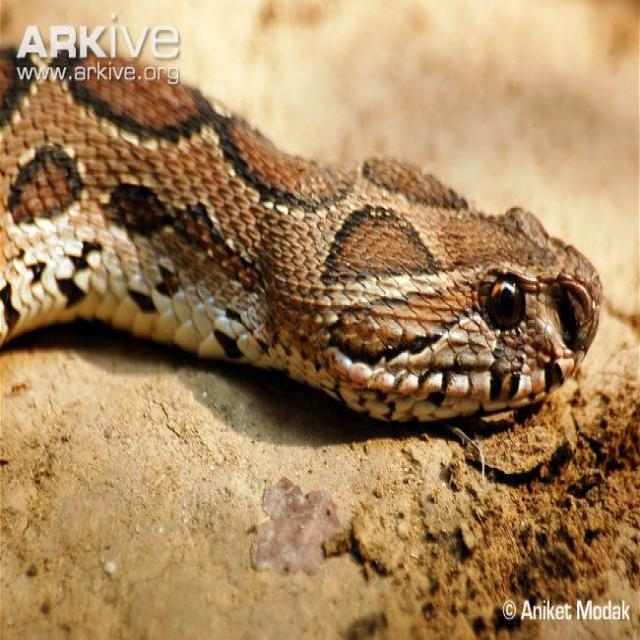Snake: (0, 36, 610, 428)
